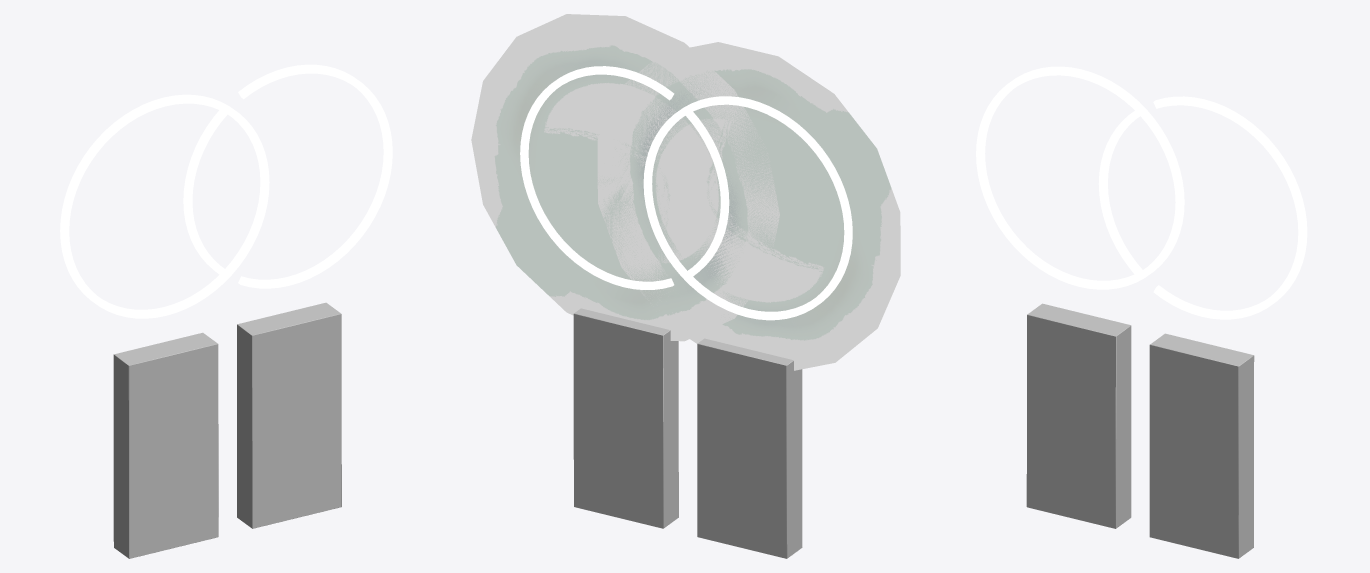
Rendered from Totem Outline.glb.
3 views of the same model, side by side, from view 1: azimuth 30°, elevation 25°; view 2: azimuth 150°, elevation 25°; view 3: azimuth 330°, elevation 25° (orthographic).
Parts seen in each view (by area): view 1: Tube, Tube_1; view 2: light_2, light, Tube, Tube_1; view 3: Tube, Tube_1.
Part boxes in pixels (box(x1,y1,x2,y2)): Tube: box(60, 94, 269, 558); Tube_1: box(183, 64, 392, 528); light_2: box(597, 42, 900, 370); light: box(471, 14, 779, 341); Tube: box(643, 96, 852, 558); Tube_1: box(520, 66, 729, 528); Tube: box(976, 66, 1184, 528); Tube_1: box(1098, 96, 1307, 558).
Size of the model in its own units: 195 by 215 by 12.34.
Materials: 2 (2 with a texture image).
